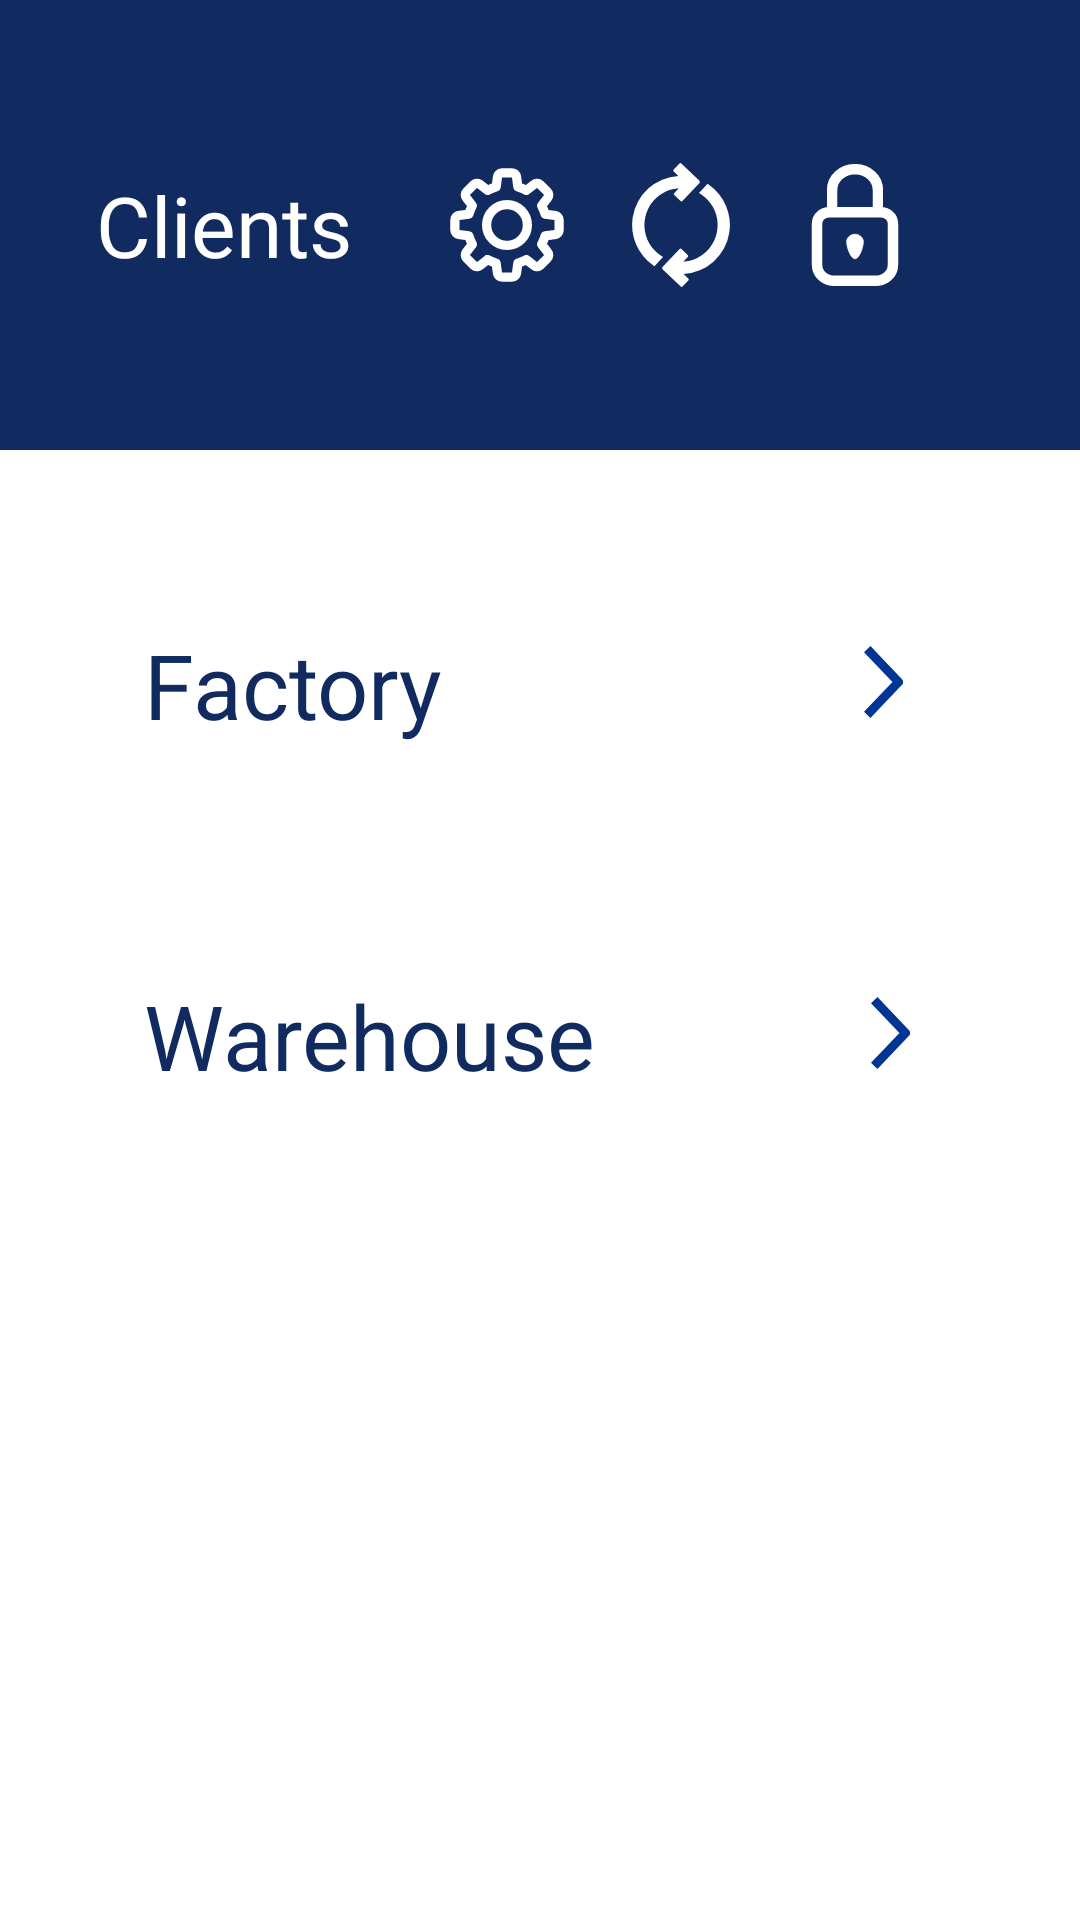

Where icons sit on this 1080px×1920px app screen, as box=[x1, y1, x2, y2]:
carret right: box=[864, 646, 903, 718], box=[871, 997, 910, 1069]
lock: box=[811, 164, 899, 286]
settings: box=[450, 168, 564, 282]
sync: box=[632, 163, 730, 287]
